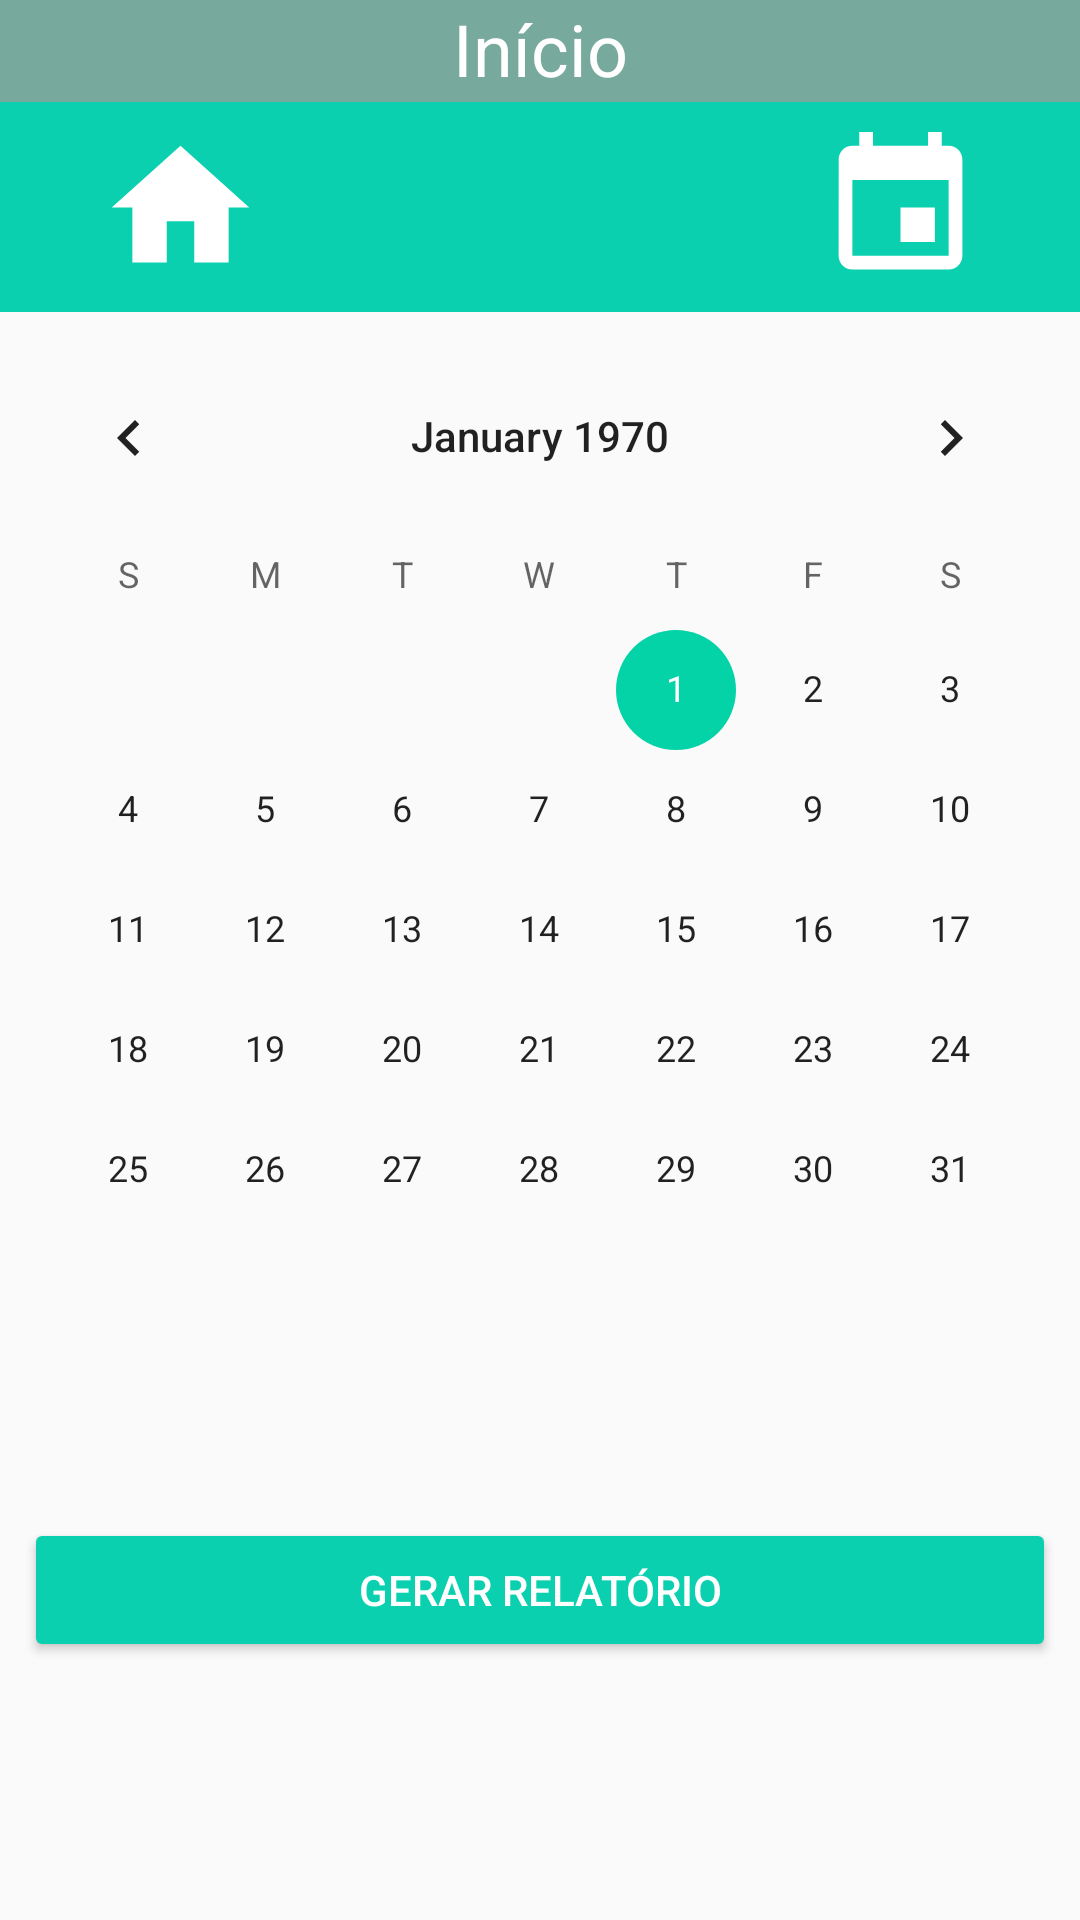

Screen size 1080 x 1920. Icon name, then its center in pixels as point (x, y):
Return to home: point (180, 207)
